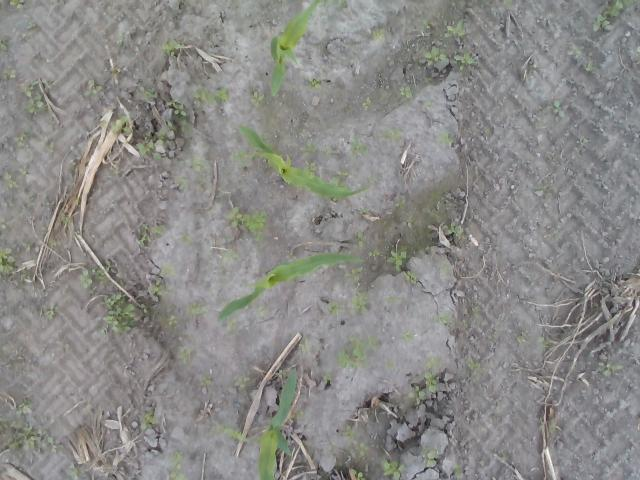Maize: (219, 253, 365, 322), (239, 123, 367, 200), (269, 0, 323, 101), (256, 365, 297, 480)
Weeds: (2, 414, 58, 453), (422, 18, 466, 66), (96, 289, 135, 336), (223, 206, 267, 242), (593, 0, 640, 32), (14, 77, 46, 112), (336, 336, 368, 370), (165, 98, 193, 132), (192, 85, 230, 106), (424, 354, 442, 396), (379, 455, 405, 480), (453, 49, 480, 72), (168, 449, 188, 480), (302, 142, 320, 176), (384, 248, 408, 272), (350, 290, 370, 314), (596, 360, 624, 377), (216, 423, 242, 441), (350, 134, 370, 156), (407, 384, 428, 404), (84, 78, 104, 99), (420, 446, 440, 466), (0, 0, 25, 16), (0, 247, 16, 272), (134, 222, 150, 246), (111, 114, 130, 134), (466, 356, 483, 378), (185, 302, 208, 318), (344, 266, 364, 284), (234, 149, 255, 166), (141, 407, 156, 430), (224, 316, 241, 336), (78, 268, 94, 289), (160, 40, 182, 55), (542, 96, 560, 114), (335, 159, 352, 178), (175, 344, 191, 364), (444, 222, 464, 237), (341, 423, 358, 440), (354, 441, 371, 458), (39, 304, 57, 320), (368, 334, 384, 352), (192, 154, 208, 172), (16, 398, 32, 415), (1, 64, 18, 80), (402, 270, 418, 286), (432, 311, 448, 327), (250, 91, 266, 107), (94, 265, 110, 281), (148, 280, 164, 296), (382, 127, 400, 141), (136, 140, 154, 154), (160, 314, 178, 328), (537, 336, 552, 352), (299, 336, 313, 353), (583, 63, 601, 76), (15, 131, 30, 146), (545, 224, 559, 240), (233, 374, 248, 388), (625, 46, 640, 60), (305, 78, 321, 91), (354, 231, 366, 248), (160, 264, 177, 276), (327, 0, 349, 9), (402, 329, 416, 343), (320, 371, 334, 385), (372, 28, 386, 42), (42, 136, 54, 152), (351, 469, 368, 480), (400, 86, 414, 99), (438, 128, 448, 146), (222, 252, 240, 262), (384, 295, 401, 305), (404, 216, 418, 228), (548, 421, 562, 433), (142, 86, 154, 100), (69, 467, 84, 478), (254, 304, 264, 320), (322, 142, 332, 158), (362, 96, 372, 112), (153, 223, 167, 234), (367, 248, 384, 257), (180, 232, 192, 244), (421, 100, 433, 112), (27, 20, 39, 32), (327, 304, 339, 316), (450, 464, 462, 476), (575, 136, 589, 146), (440, 264, 450, 278), (199, 375, 213, 385), (328, 439, 337, 454), (298, 128, 312, 137), (399, 195, 408, 209), (179, 174, 188, 188), (574, 46, 586, 56), (384, 360, 396, 370), (370, 454, 380, 466), (156, 130, 166, 142), (502, 0, 514, 10), (0, 38, 8, 52), (294, 408, 305, 418), (151, 151, 161, 161), (446, 0, 456, 10), (8, 178, 18, 188), (358, 207, 368, 216), (22, 242, 30, 253), (478, 0, 488, 8), (472, 306, 481, 314), (18, 168, 27, 176), (423, 76, 433, 83), (62, 215, 66, 224)
